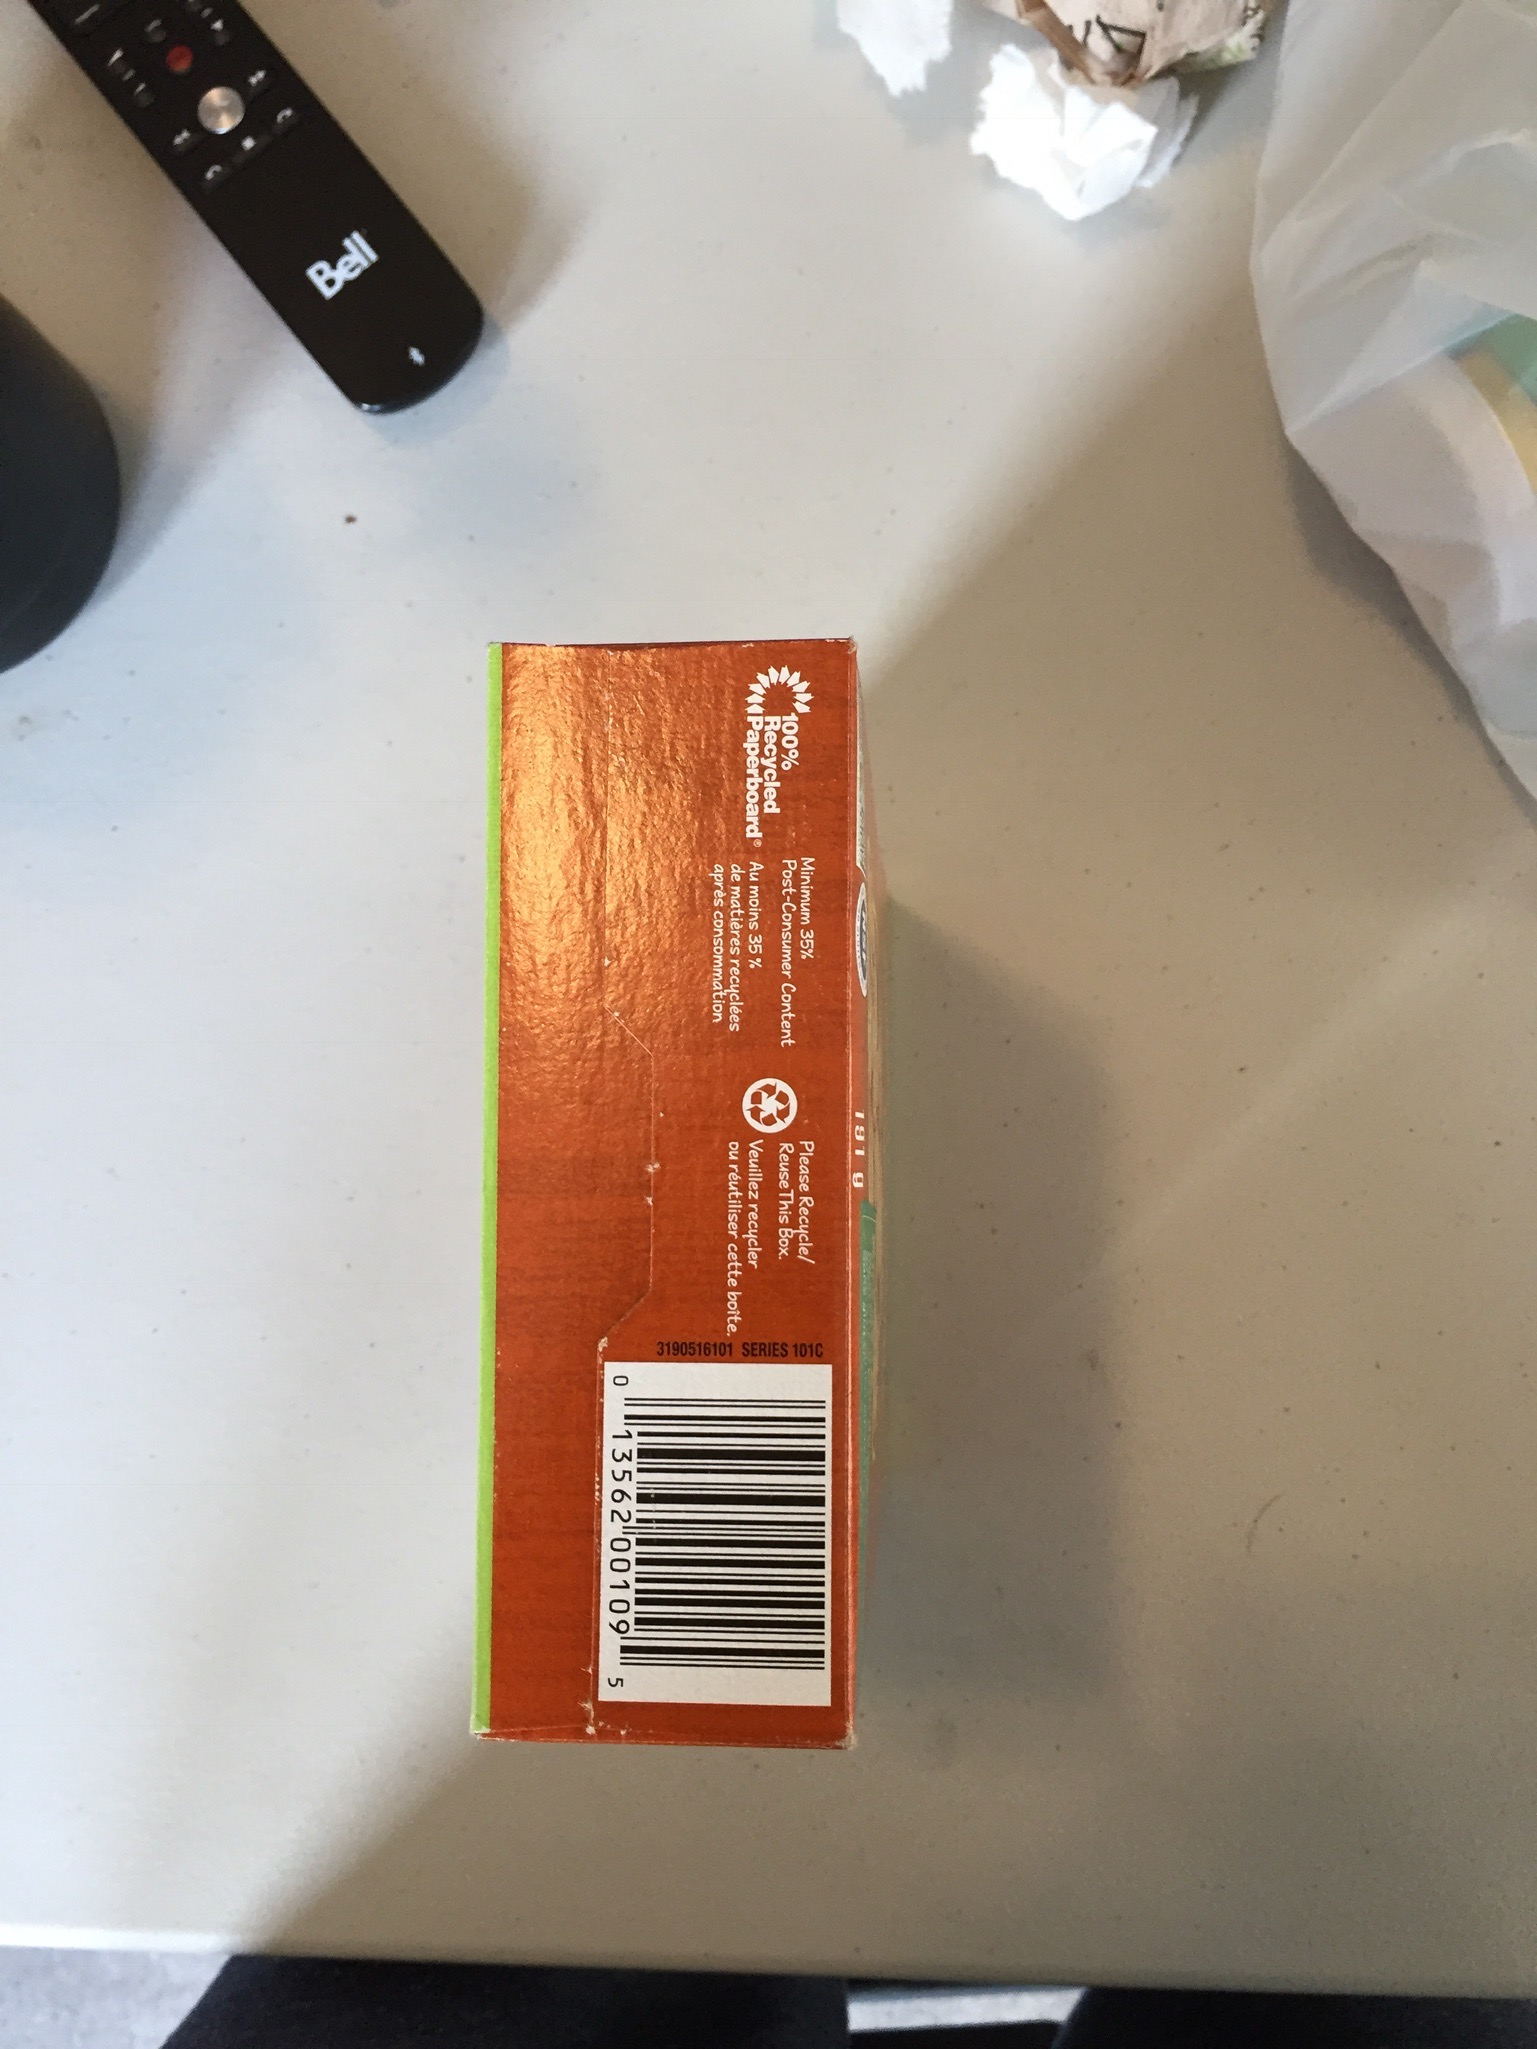annies_snickerdoodles_cinnamon_sugar: (499, 649, 852, 1737)
